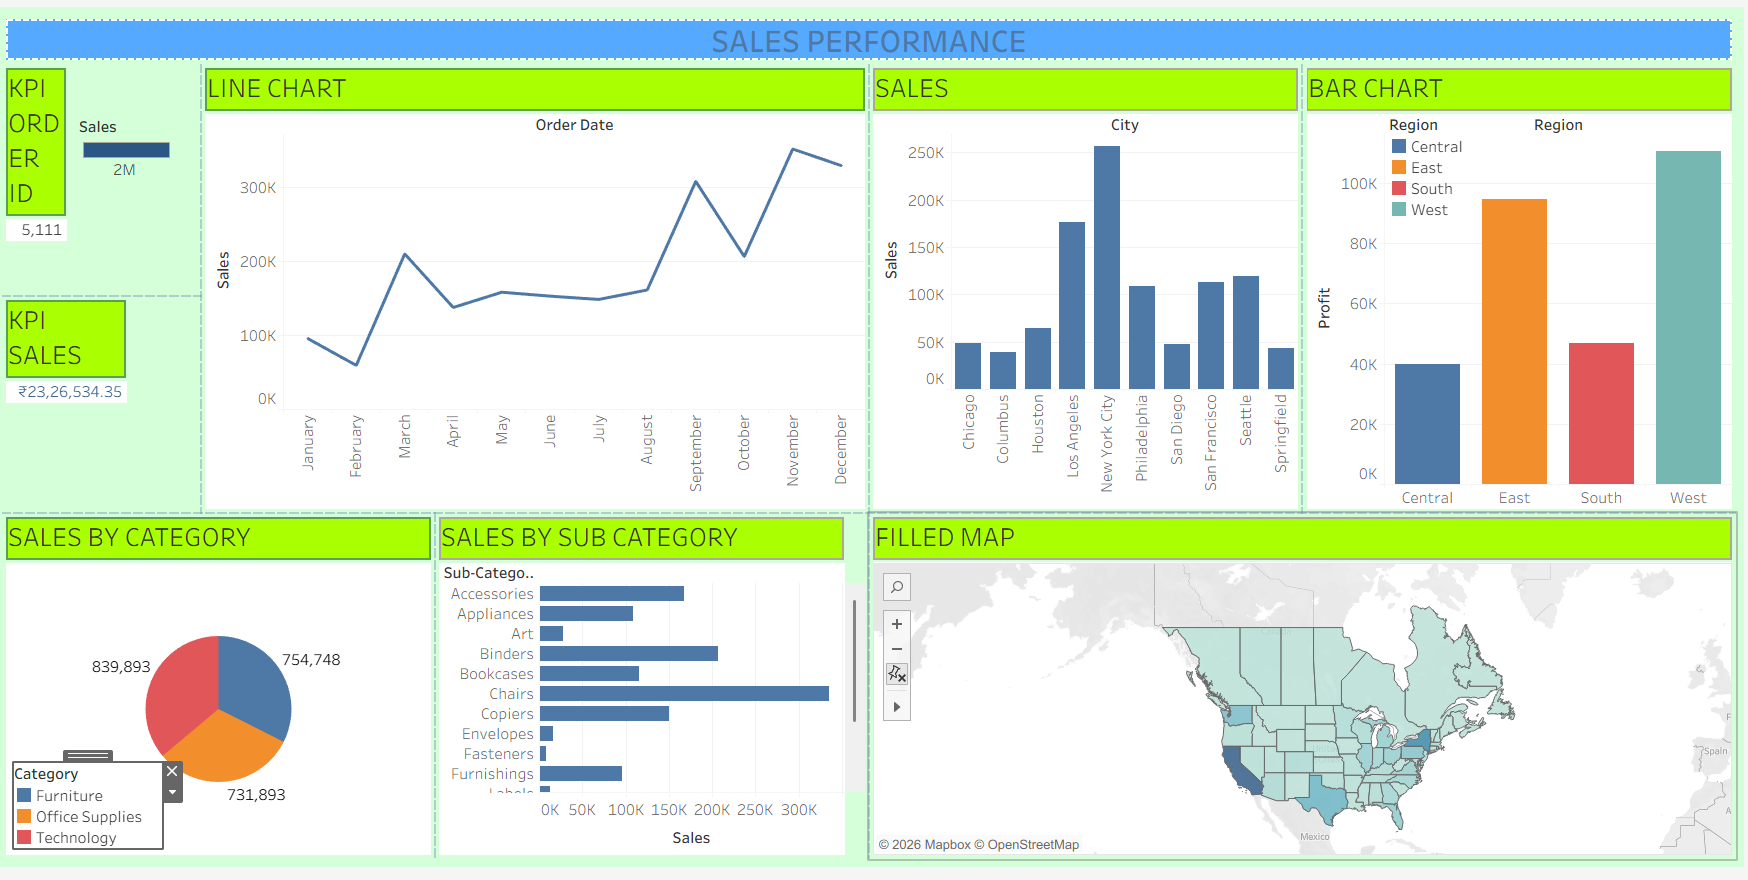

The page's visual inventory and layout, read from the dashboard file:
{"tool":"tableau","page":{"name":"Dashboard 1","canvas":[1000,1000],"units":"permille","ordinal":0},"visuals":[{"type":"title","box":[4.6,9.3,990.9,57]},{"type":"worksheet","title":"KPI ORDER ID","mark":"Automatic","box":[4.6,66.3,113.6,269.8]},{"type":"worksheet","title":"LINE CHART","mark":"Automatic","rows":["Sales"],"cols":["Order Date"],"box":[118.2,66.3,381.8,522.1]},{"type":"worksheet","title":"SALES","mark":"Automatic","rows":["Sales"],"cols":["City"],"box":[500,66.3,247.7,522.1]},{"type":"worksheet","title":"BAR CHART","mark":"Automatic","rows":["Profit"],"cols":["Region"],"box":[747.7,66.3,247.7,522.1]},{"type":"legend","title":"BAR CHART","param":"[federated.1gd7ipe0qlwv7r17x4ky90mf4brm].[none:Region:nk]","box":[797.4,124.4,53.1,143]},{"type":"legend","title":"KPI SALES","param":"[federated.1gd7ipe0qlwv7r17x4ky90mf4brm].[sum:Sales:qk]","box":[48.9,126.7,54.3,102.3]},{"type":"worksheet","title":"KPI SALES","mark":"Automatic","box":[4.6,336,113.6,252.3]},{"type":"worksheet","title":"SALES BY CATEGORY","mark":"Pie","box":[4.6,588.4,247.7,402.3]},{"type":"worksheet","title":"SALES BY SUB CATEGORY","mark":"Automatic","rows":["Sub-Category"],"cols":["Sales"],"box":[252.3,588.4,247.7,402.3]},{"type":"worksheet","title":"FILLED MAP","mark":"Automatic","box":[500,588.4,495.4,402.3]},{"type":"legend","title":"SALES BY CATEGORY","param":"[federated.1gd7ipe0qlwv7r17x4ky90mf4brm].[none:Category:nk]","box":[11.5,879.1,84.4,98.8]}]}

Visuals, with their boxes on the dashboard's canvas, which has no fixed pixel size, in thousandths of its width and height (x1, y1, x2, y2). These are canvas units, not pixel positions in the 1748x880 screenshot, which may show the page scaled, cropped or inside an application window:
title: 5/9/996/66
"KPI ORDER ID" worksheet: 5/66/118/336
"LINE CHART" worksheet: 118/66/500/588
"SALES" worksheet: 500/66/748/588
"BAR CHART" worksheet: 748/66/995/588
"BAR CHART" legend: 797/124/850/267
"KPI SALES" legend: 49/127/103/229
"KPI SALES" worksheet: 5/336/118/588
"SALES BY CATEGORY" worksheet (Pie marks): 5/588/252/991
"SALES BY SUB CATEGORY" worksheet: 252/588/500/991
"FILLED MAP" worksheet: 500/588/995/991
"SALES BY CATEGORY" legend: 12/879/96/978
